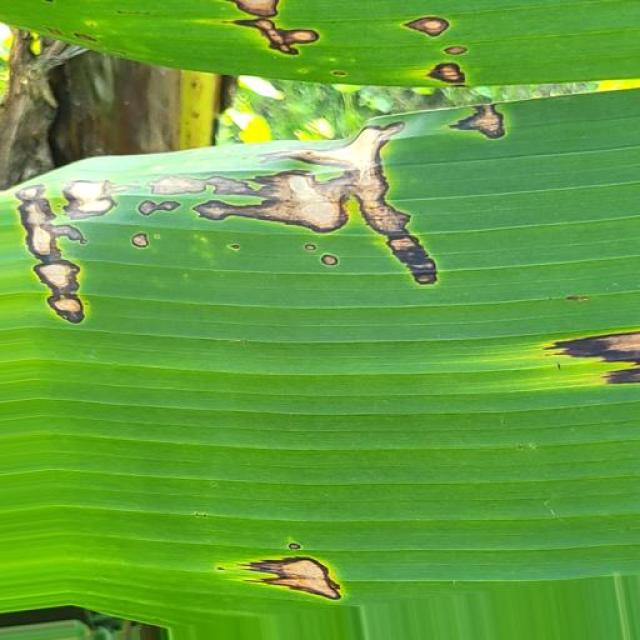Early_rust: (0, 0, 518, 338), (150, 518, 369, 640), (515, 279, 640, 416)
